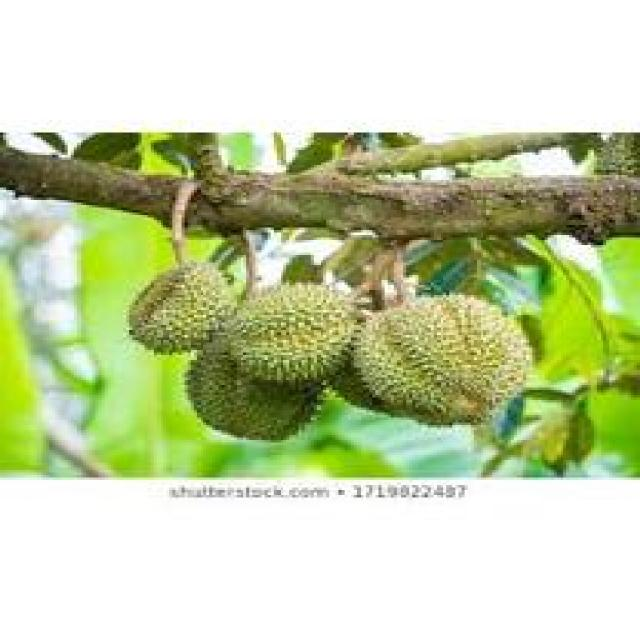fruit: (151, 248, 375, 460), (342, 277, 542, 435)
